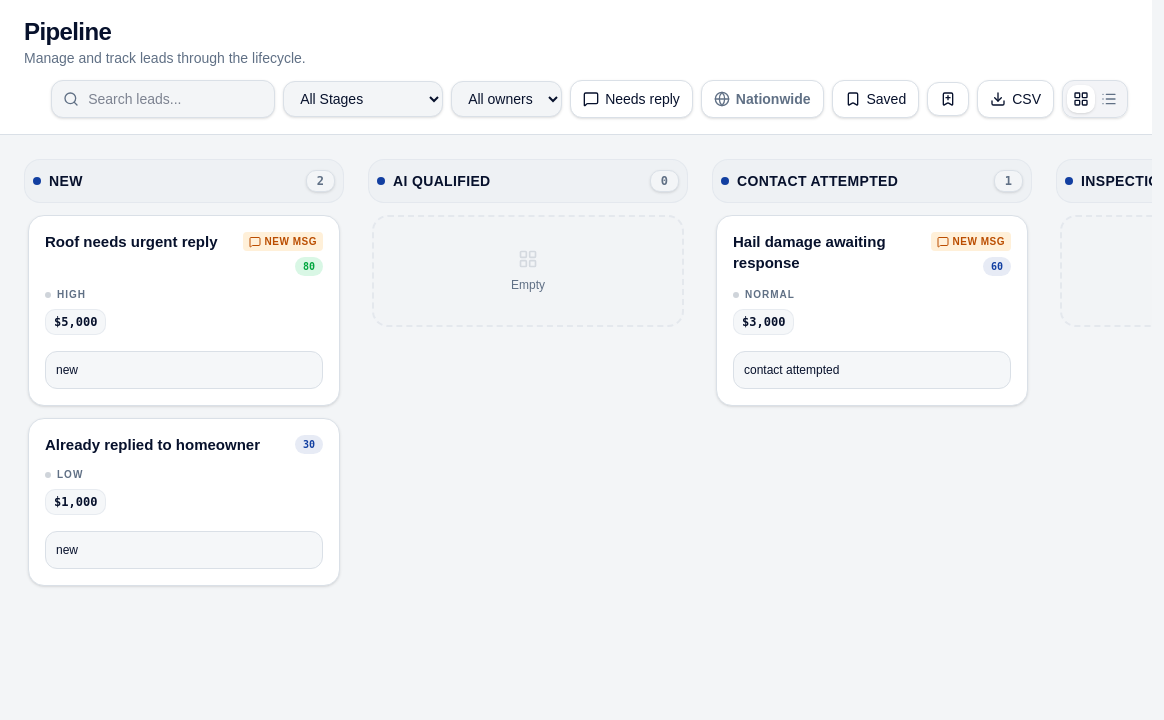
it: Pipeline "Needs reply" filter › board view › hides leads without unread messages after toggling ON
Expected: the link "Roof needs urgent reply" is shown, [45,232,218,253]
Click the button with test id "needs-reply-filter": click(631, 99) [570,80,693,118]
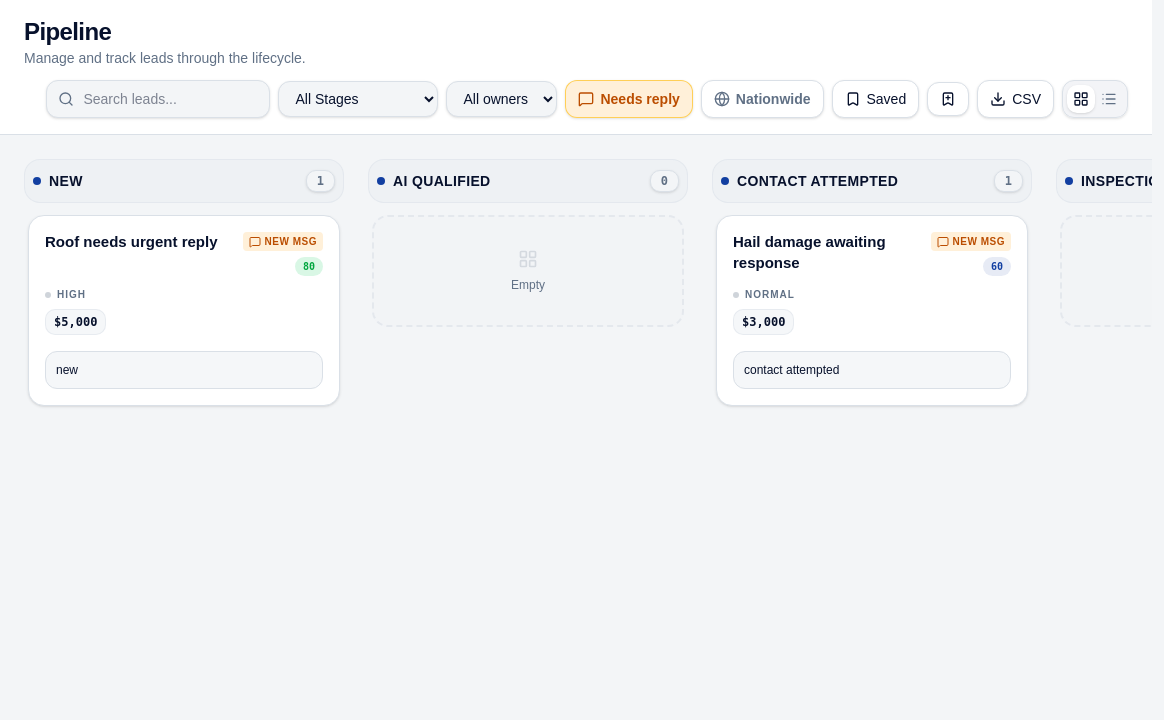
Expected: the link "Roof needs urgent reply" is shown, [45,232,218,253]
Expected: the link "Already replied to homeowner" is gone
